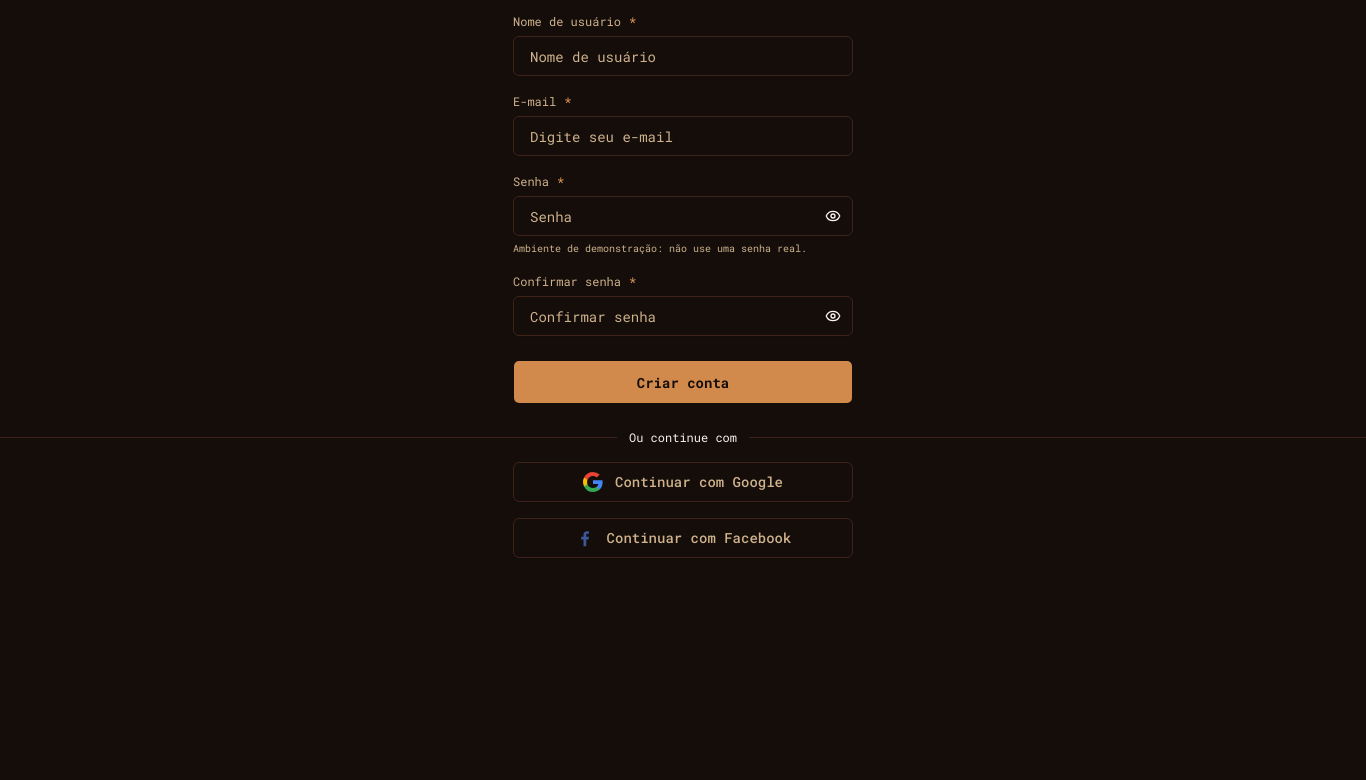
Test: SignupForm › envio vazio mostra 4 erros, foca o nome e não chama a API
Click the button "Criar conta" at coordinates (683, 382), box [513,360,853,404]
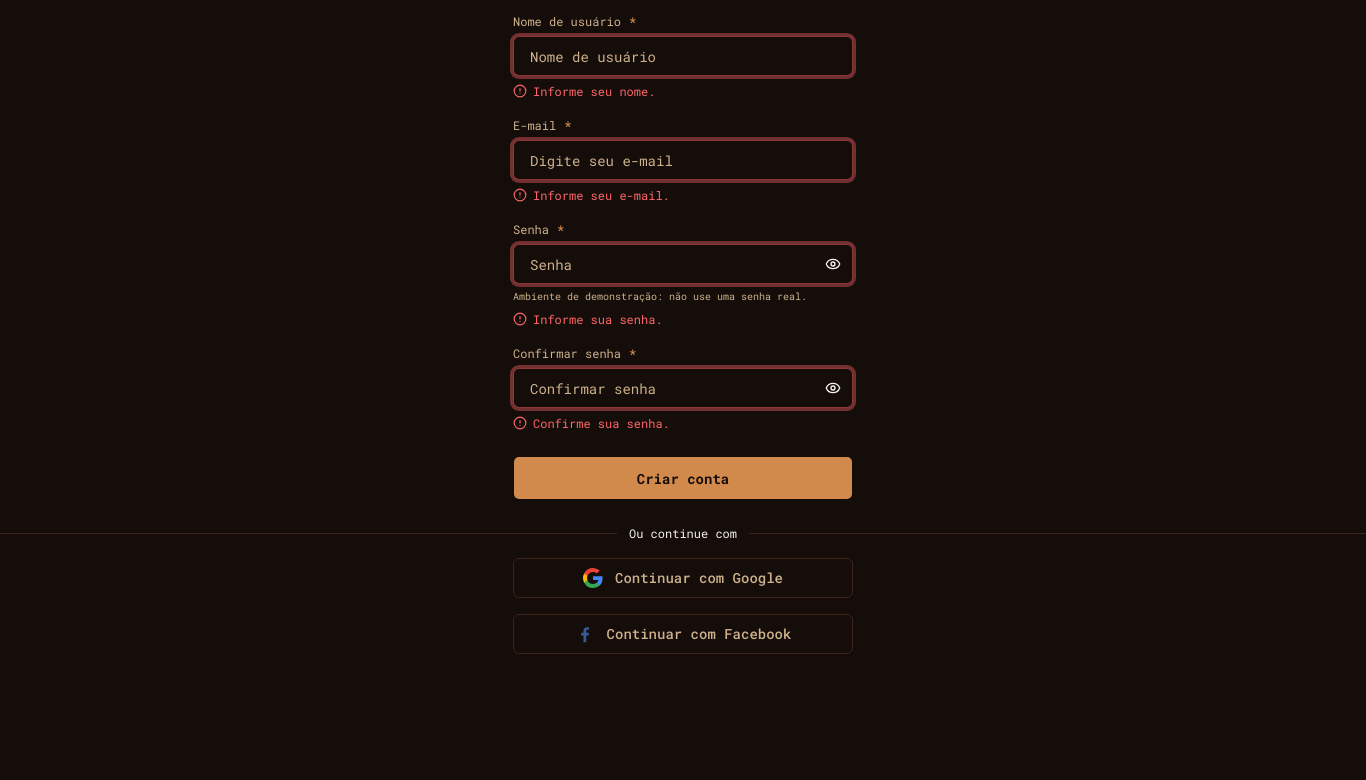
Result: the text "Informe seu nome." is shown 4 times at [513,83,655,99]; [513,187,670,203]; [513,311,663,327]; [513,415,670,431]
